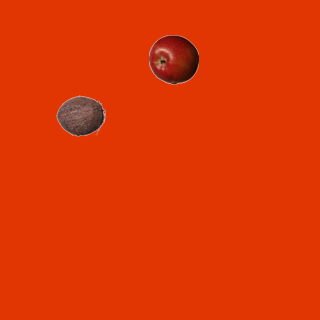Apple Braeburn: (148, 34, 198, 84)
Cocos: (55, 90, 105, 140)
